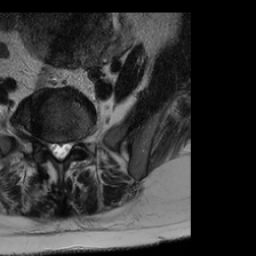CCS_normal: (56, 132, 64, 167)
LFS_stenosis: (72, 131, 82, 153)
LLS_normal: (64, 132, 72, 162)
RFS_stenosis: (40, 130, 48, 153)
RLS_normal: (48, 132, 56, 162)
